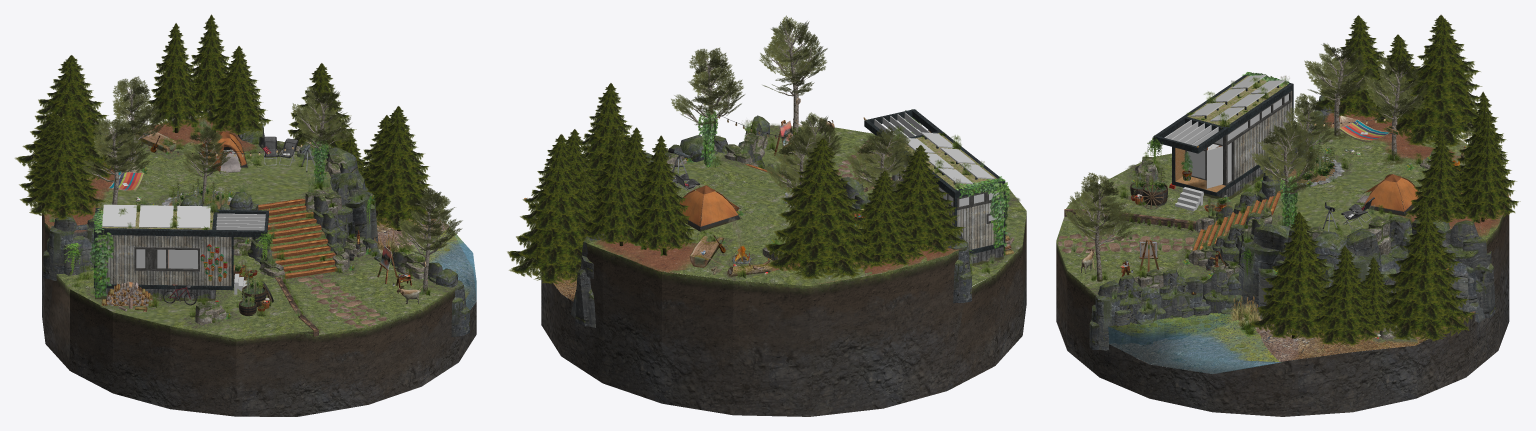
3 renders of one model, left to right at view 1: azimuth 30°, elevation 25°; view 2: azimuth 150°, elevation 25°; view 3: azimuth 270°, elevation 25°, orthographic. The views are drawn at different scales.
Visible parts, largest first — view 1: polySurface16, polySurface18, polySurface577, House, Hammock1, pPlane153, pPlane146, pPlane161, pCube114, pPlane149, pPlane151, pPlane466 (+20 smaller); view 2: polySurface16, polySurface18, pPlane146, House, pPlane152, polySurface577, Hammock1, pPlane161, pPlane149, pPlane150, pPlane160, pPlane156 (+9 smaller); view 3: polySurface577, polySurface16, polySurface18, House, polySurface17, pPlane152, pPlane304, pPlane146, Hammock1, pPlane153, pPlane155, pPlane150 (+17 smaller).
Boxes of the visible parts, x1,y1,x2,y2 form: polySurface16: [42, 213, 476, 416]; polySurface18: [44, 115, 456, 338]; polySurface577: [43, 124, 469, 337]; House: [94, 204, 268, 300]; Hammock1: [81, 76, 165, 204]; pPlane153: [365, 106, 437, 231]; pPlane146: [15, 55, 123, 180]; pPlane161: [20, 119, 107, 219]; pCube114: [233, 198, 425, 278]; pPlane149: [148, 23, 208, 132]; pPlane151: [205, 46, 272, 135]; pPlane466: [84, 140, 457, 331]; polySurface16: [541, 213, 1026, 416]; polySurface18: [587, 126, 1026, 285]; pPlane146: [765, 138, 883, 279]; House: [864, 109, 1005, 265]; pPlane152: [507, 134, 597, 283]; polySurface577: [570, 115, 1007, 327]; Hammock1: [764, 126, 916, 226]; pPlane161: [891, 145, 966, 254]; pPlane149: [627, 135, 696, 255]; pPlane150: [583, 128, 643, 246]; pPlane160: [857, 170, 925, 266]; pPlane156: [759, 15, 827, 134]; polySurface577: [1089, 95, 1495, 350]; polySurface16: [1056, 153, 1509, 416]; polySurface18: [1056, 115, 1508, 295]; House: [1153, 72, 1293, 211]; polySurface17: [1110, 311, 1475, 373]; pPlane152: [1381, 201, 1477, 341]; pPlane304: [1108, 312, 1281, 373]; pPlane146: [1383, 14, 1498, 147]; Hammock1: [1304, 41, 1427, 159]; pPlane153: [1250, 212, 1333, 339]; pPlane155: [1312, 246, 1384, 345]; pPlane150: [1458, 112, 1520, 221].
Bounding box in the file's own units: 22.67 × 13.45 × 22.63.
